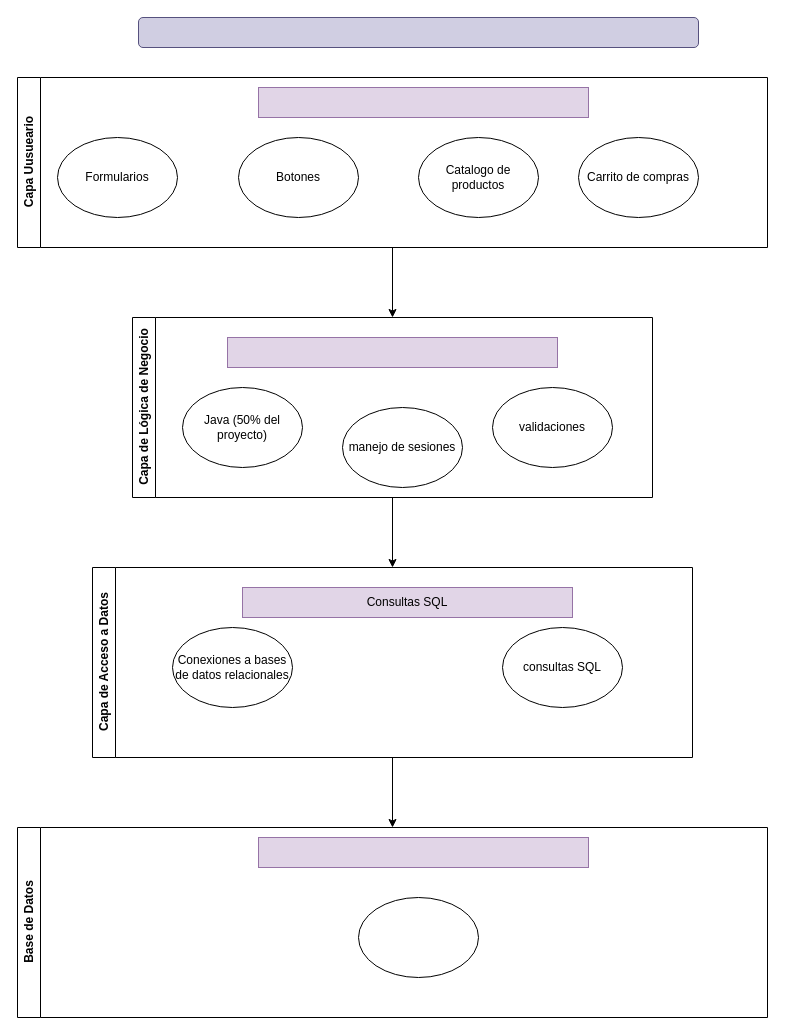
The diagram is 785 pixels wide and 1035 high, and some of its shapes have lost their labels. Each missing label, with the centre of its shape:
Backend: Java: point 392,352
Base de datos relacional: point 418,937
DIAGRAMA DE CAPAS: point 418,32
Frontend: HTML, CSS y JavaScript.: point 423,102
MySQL, PostgreSQL: point 423,852
